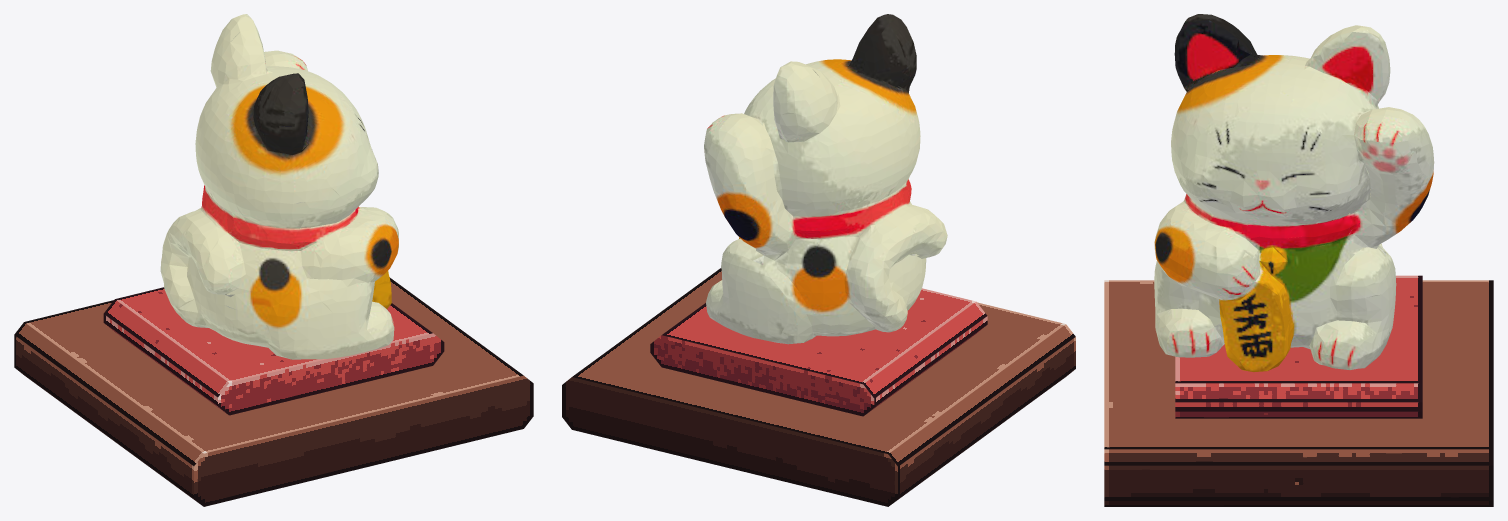
The model's file is maneki.glb.
3 renders of one model, left to right at view 1: azimuth 30°, elevation 25°; view 2: azimuth 150°, elevation 25°; view 3: azimuth 270°, elevation 25°, orthographic. The views are drawn at different scales.
Visible parts, largest first — view 1: model_m, base, cushion; view 2: model_m, base, cushion; view 3: model_m, base, cushion.
Boxes of the visible parts, <box> form: model_m: <box>160,14,398,359</box>; base: <box>14,277,533,506</box>; cushion: <box>103,287,444,415</box>; model_m: <box>704,14,947,344</box>; base: <box>562,268,1075,506</box>; cushion: <box>650,288,987,416</box>; model_m: <box>1154,14,1434,371</box>; base: <box>1104,280,1493,506</box>; cushion: <box>1175,275,1422,418</box>.
Size of the model in its own units: 24 by 24.65 by 22.
Materials: 2 (2 with a texture image).
